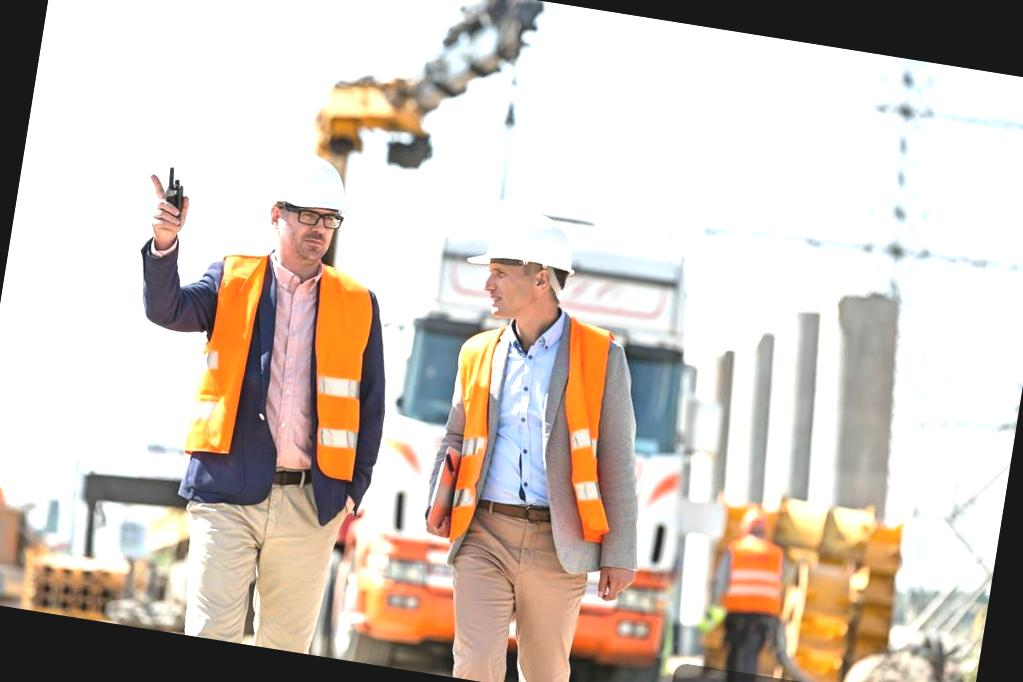helmet: (472, 200, 574, 280), (262, 151, 356, 218)
no_vest: (173, 244, 384, 506), (431, 302, 632, 558)
person: (84, 125, 427, 660), (391, 199, 690, 682)
